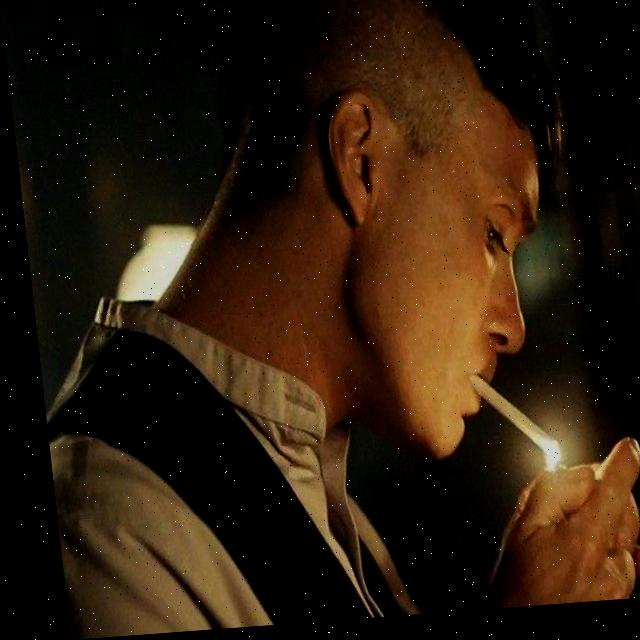cigarette: (463, 379, 548, 475)
